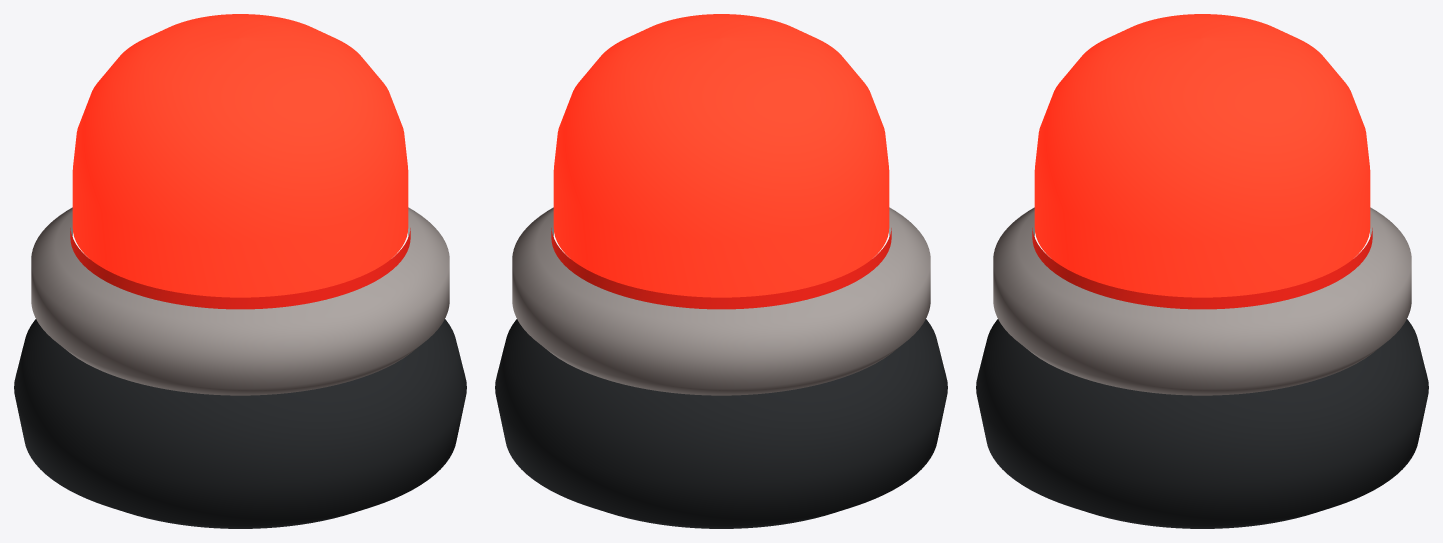
Rendered from BigRedButtonGlowLevel03.glb.
The picture shows the model from 3 angles, left to right: view 1: azimuth 30°, elevation 25°; view 2: azimuth 150°, elevation 25°; view 3: azimuth 270°, elevation 25°; orthographic projection.
Parts seen in each view (by area): view 1: button, button_base, metal_bezel, cap_side_shadow; view 2: button, button_base, metal_bezel, cap_side_shadow; view 3: button, button_base, metal_bezel, cap_side_shadow.
Part boxes in pixels (left/top/right/bottom): button: left=72, top=14, right=408, bottom=297; button_base: left=14, top=319, right=466, bottom=528; metal_bezel: left=31, top=207, right=449, bottom=395; cap_side_shadow: left=70, top=228, right=410, bottom=309; button: left=553, top=14, right=889, bottom=297; button_base: left=495, top=319, right=947, bottom=528; metal_bezel: left=512, top=207, right=930, bottom=395; cap_side_shadow: left=551, top=228, right=891, bottom=309; button: left=1034, top=14, right=1370, bottom=297; button_base: left=976, top=319, right=1428, bottom=528; metal_bezel: left=993, top=207, right=1411, bottom=395; cap_side_shadow: left=1032, top=228, right=1372, bottom=309.
Size of the model in its own units: 0.0185 by 0.0185 by 0.0185.
